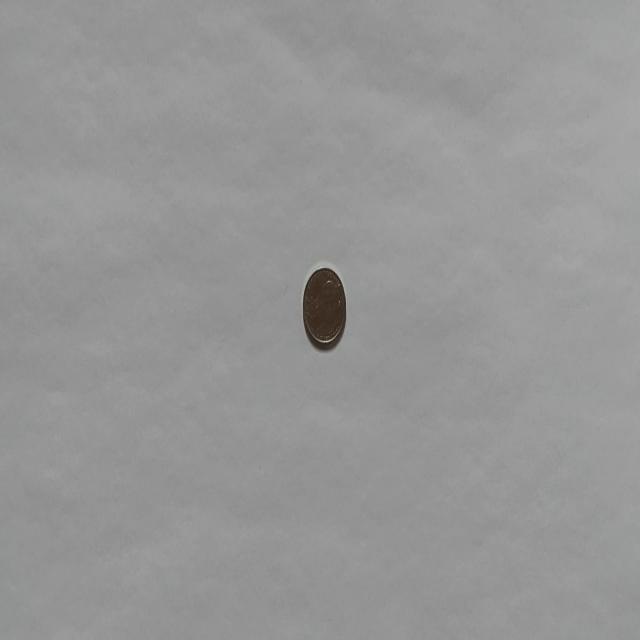seribu rupiah koin: (301, 263, 347, 349)
